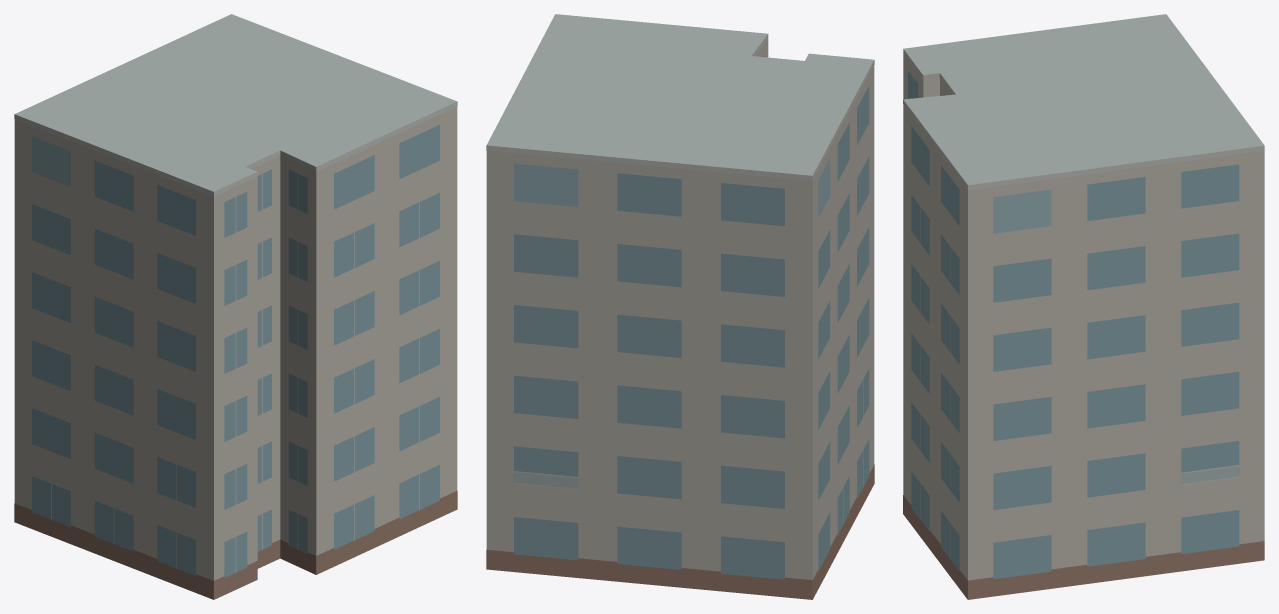
File: survey-upis-33013926.glb
The picture shows the model from 3 angles, left to right: view 1: azimuth 30°, elevation 25°; view 2: azimuth 150°, elevation 25°; view 3: azimuth 270°, elevation 25°; orthographic projection. The views are drawn at different scales.
Visible parts, largest first — view 1: survey-upis-33013926.tmp; view 2: survey-upis-33013926.tmp; view 3: survey-upis-33013926.tmp.
Part boxes in pixels (x1,y1,x2,y2): survey-upis-33013926.tmp: (14, 14, 457, 599); survey-upis-33013926.tmp: (486, 14, 874, 599); survey-upis-33013926.tmp: (903, 14, 1264, 599).
Size of the model in its own units: 17.81 by 20.1 by 15.89.
